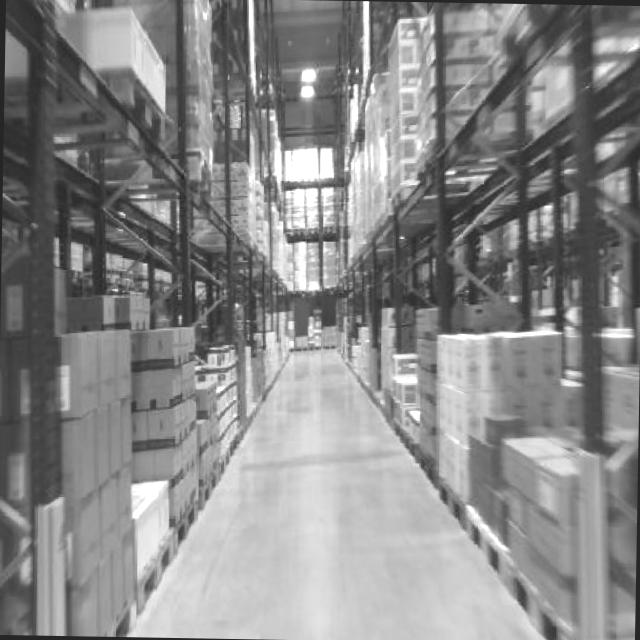pallet: (94, 489, 209, 638), (394, 427, 484, 535), (489, 548, 583, 640), (105, 52, 177, 146), (186, 143, 226, 196)
